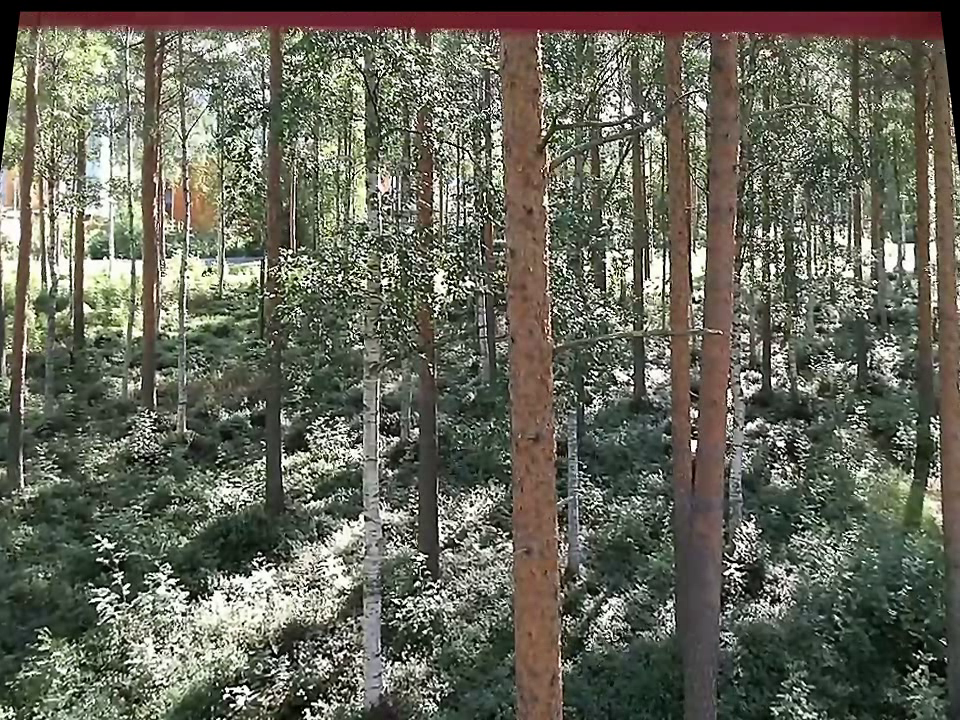branch: (548, 310, 726, 360)
trunk: (487, 31, 572, 713), (347, 45, 405, 695), (699, 22, 754, 701), (648, 35, 699, 624), (253, 33, 297, 522), (404, 95, 447, 580), (0, 49, 43, 491), (133, 41, 173, 411), (903, 71, 941, 421), (619, 73, 654, 409), (64, 108, 96, 350), (173, 87, 192, 439)
